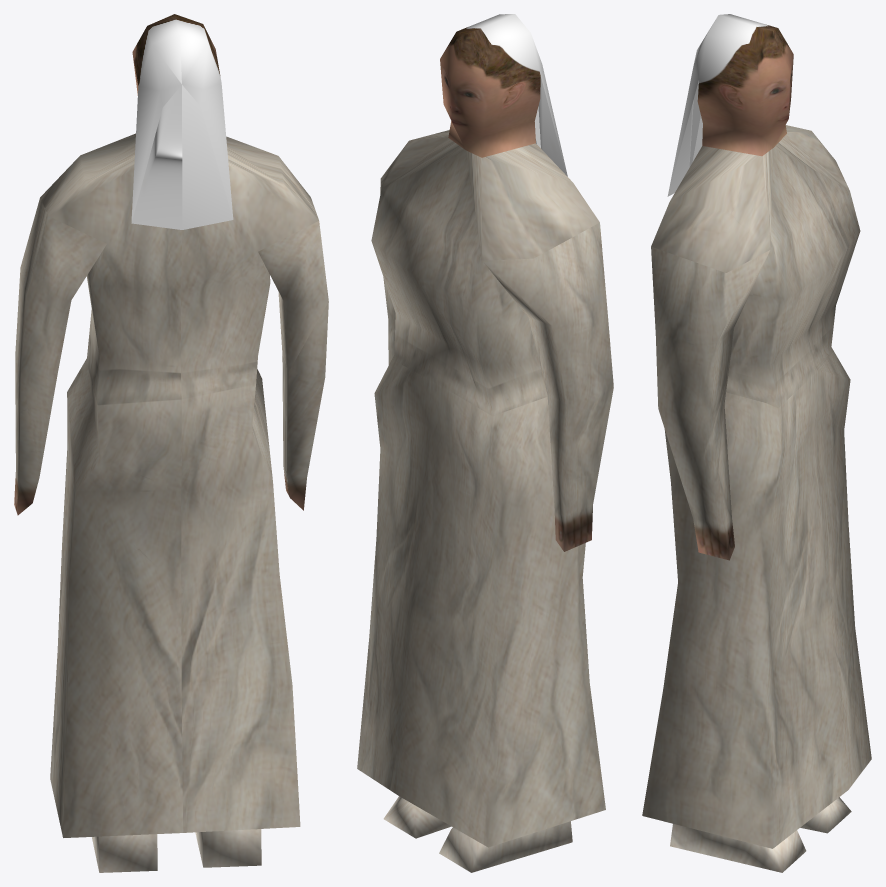
File: lady1_23.fbx
The picture shows the model from 3 angles, left to right: view 1: azimuth 30°, elevation 25°; view 2: azimuth 150°, elevation 25°; view 3: azimuth 270°, elevation 25°; orthographic projection. The views are drawn at different scales.
Parts seen in each view (by area): view 1: lady1_23; view 2: lady1_23; view 3: lady1_23.
Part boxes in pixels (<box>): lady1_23: <box>14,14,328,872</box>; lady1_23: <box>357,14,613,872</box>; lady1_23: <box>642,14,871,872</box>.
Size of the model in its own units: 12.37 by 36.09 by 9.28.
